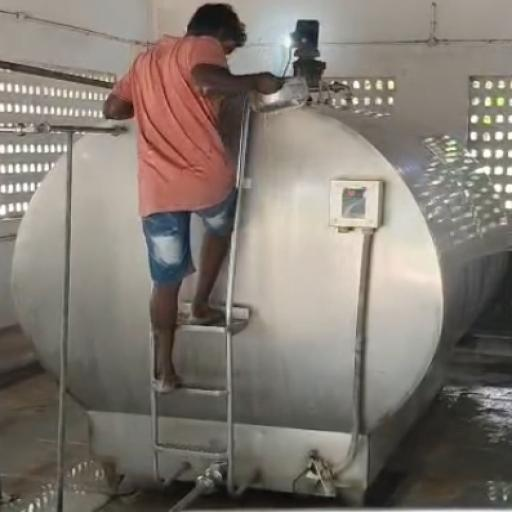silo: (7, 102, 509, 495)
vessel: (247, 76, 310, 115)
